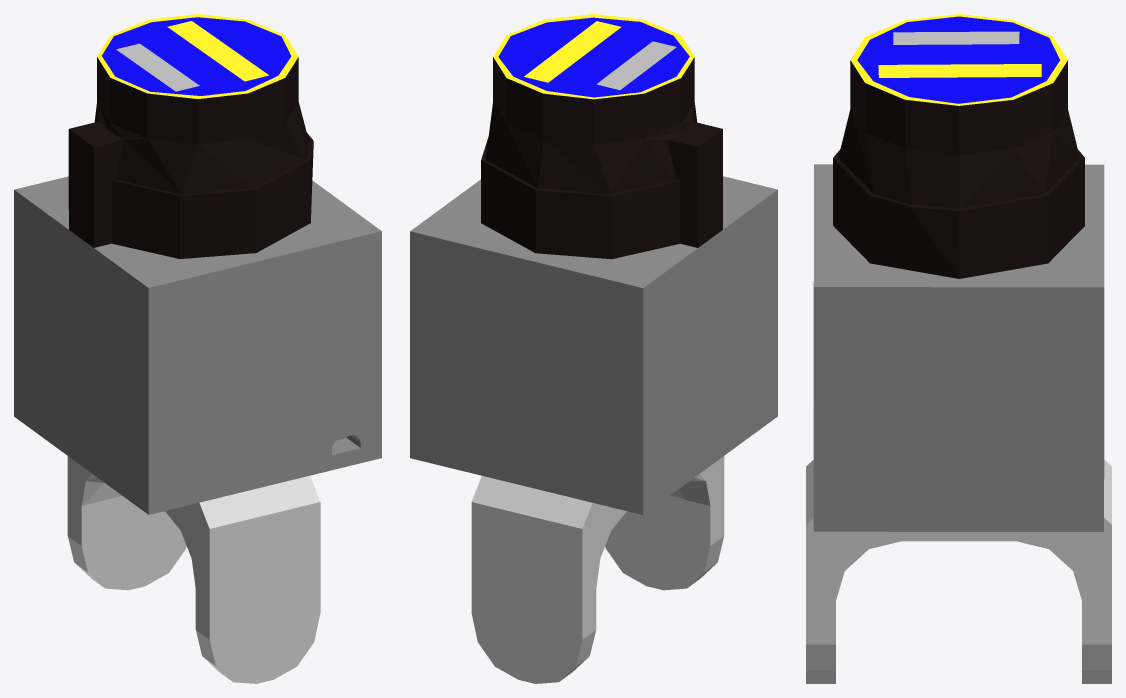
Rendered from hokuyo_urg_04lx.dae.
3 views of the same model, side by side, from view 1: azimuth 30°, elevation 25°; view 2: azimuth 150°, elevation 25°; view 3: azimuth 270°, elevation 25° (orthographic). The views are drawn at different scales.
Parts seen in each view (by area): view 1: Zen_002; view 2: Zen_002; view 3: Zen_002.
Boxes of the visible parts, <box> form: Zen_002: <box>14,14,381,683</box>; Zen_002: <box>410,14,777,683</box>; Zen_002: <box>806,14,1111,683</box>.
Size of the model in its own units: 0.0484 by 0.051 by 0.1135.
